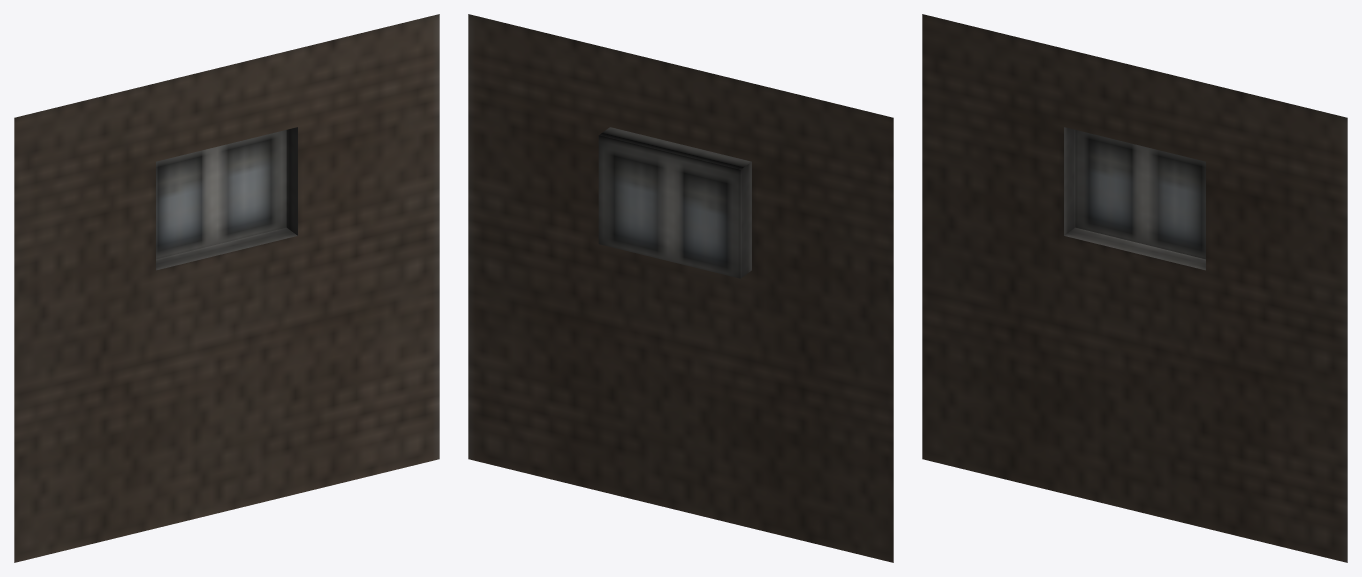
Rendered from B3_BricksWindow.FBX.
The picture shows the model from 3 angles, left to right: view 1: azimuth 30°, elevation 25°; view 2: azimuth 150°, elevation 25°; view 3: azimuth 330°, elevation 25°; orthographic projection.
Visible parts, largest first — view 1: B3_BricksWindow; view 2: B3_BricksWindow; view 3: B3_BricksWindow.
Part boxes in pixels (x1,y1,x2,y2): B3_BricksWindow: (14, 14, 439, 562); B3_BricksWindow: (468, 14, 893, 562); B3_BricksWindow: (922, 14, 1347, 562).
Size of the model in its own units: 4 by 4 by 0.1837.
